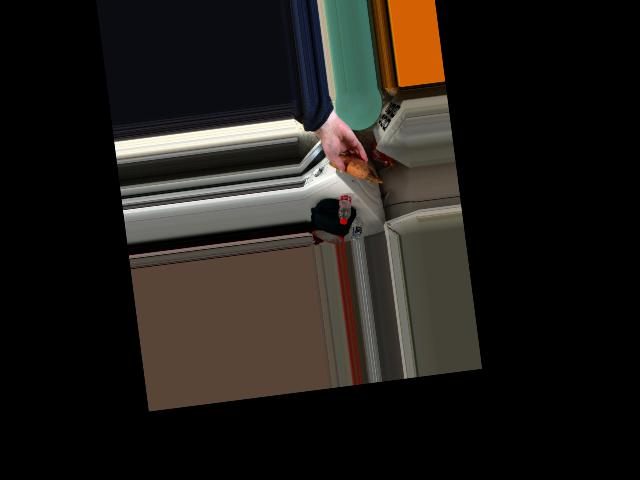sweet_potato: (332, 147, 368, 182)
